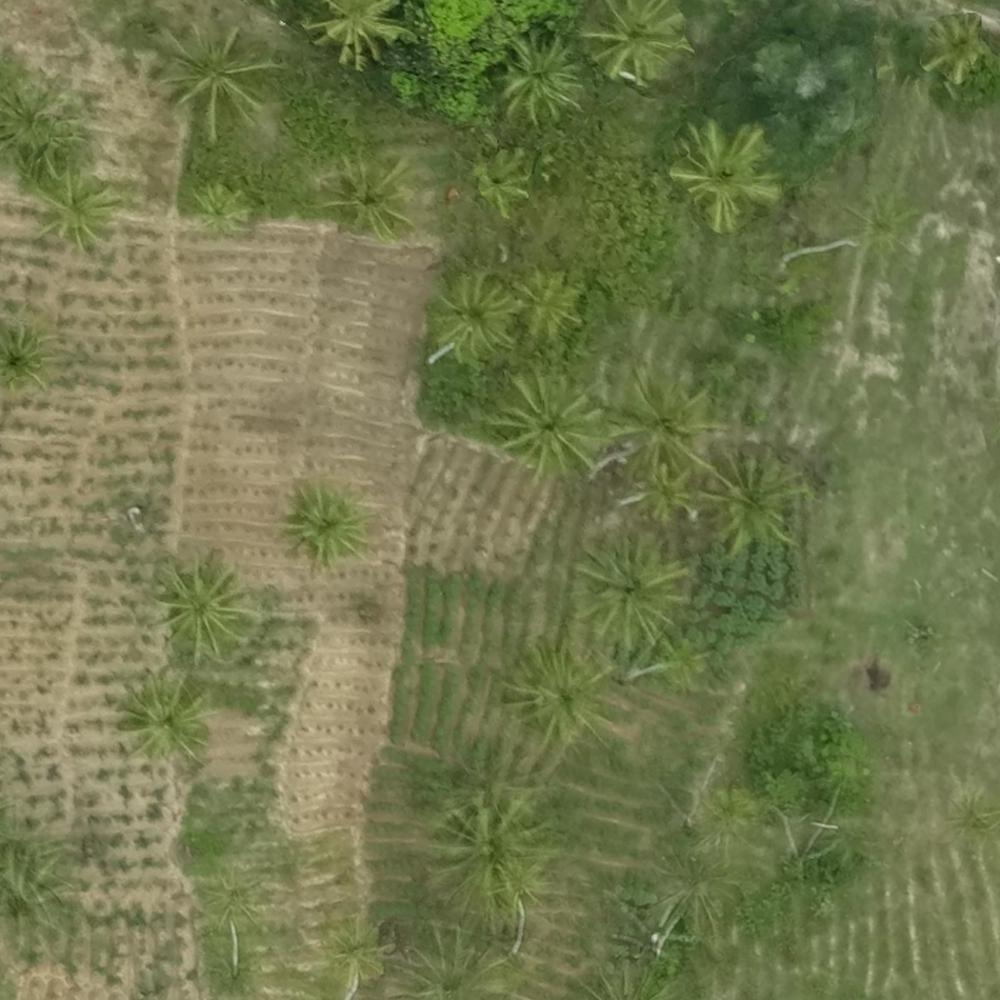Palm: (159, 22, 276, 129), (571, 533, 682, 645), (670, 122, 776, 224), (490, 374, 597, 475), (696, 449, 799, 549), (609, 367, 713, 466), (503, 646, 609, 742), (149, 556, 246, 656), (582, 1, 693, 88), (112, 672, 214, 763), (317, 152, 419, 234), (497, 32, 581, 124), (284, 483, 372, 565), (308, 1, 403, 73), (32, 164, 114, 245), (435, 274, 519, 352), (513, 264, 586, 343), (474, 145, 537, 217), (621, 461, 692, 523), (190, 183, 252, 239)
